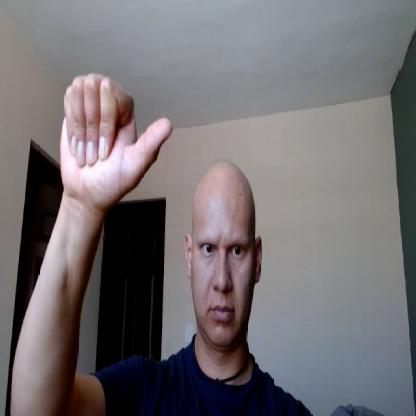A: (59, 70, 174, 207)
